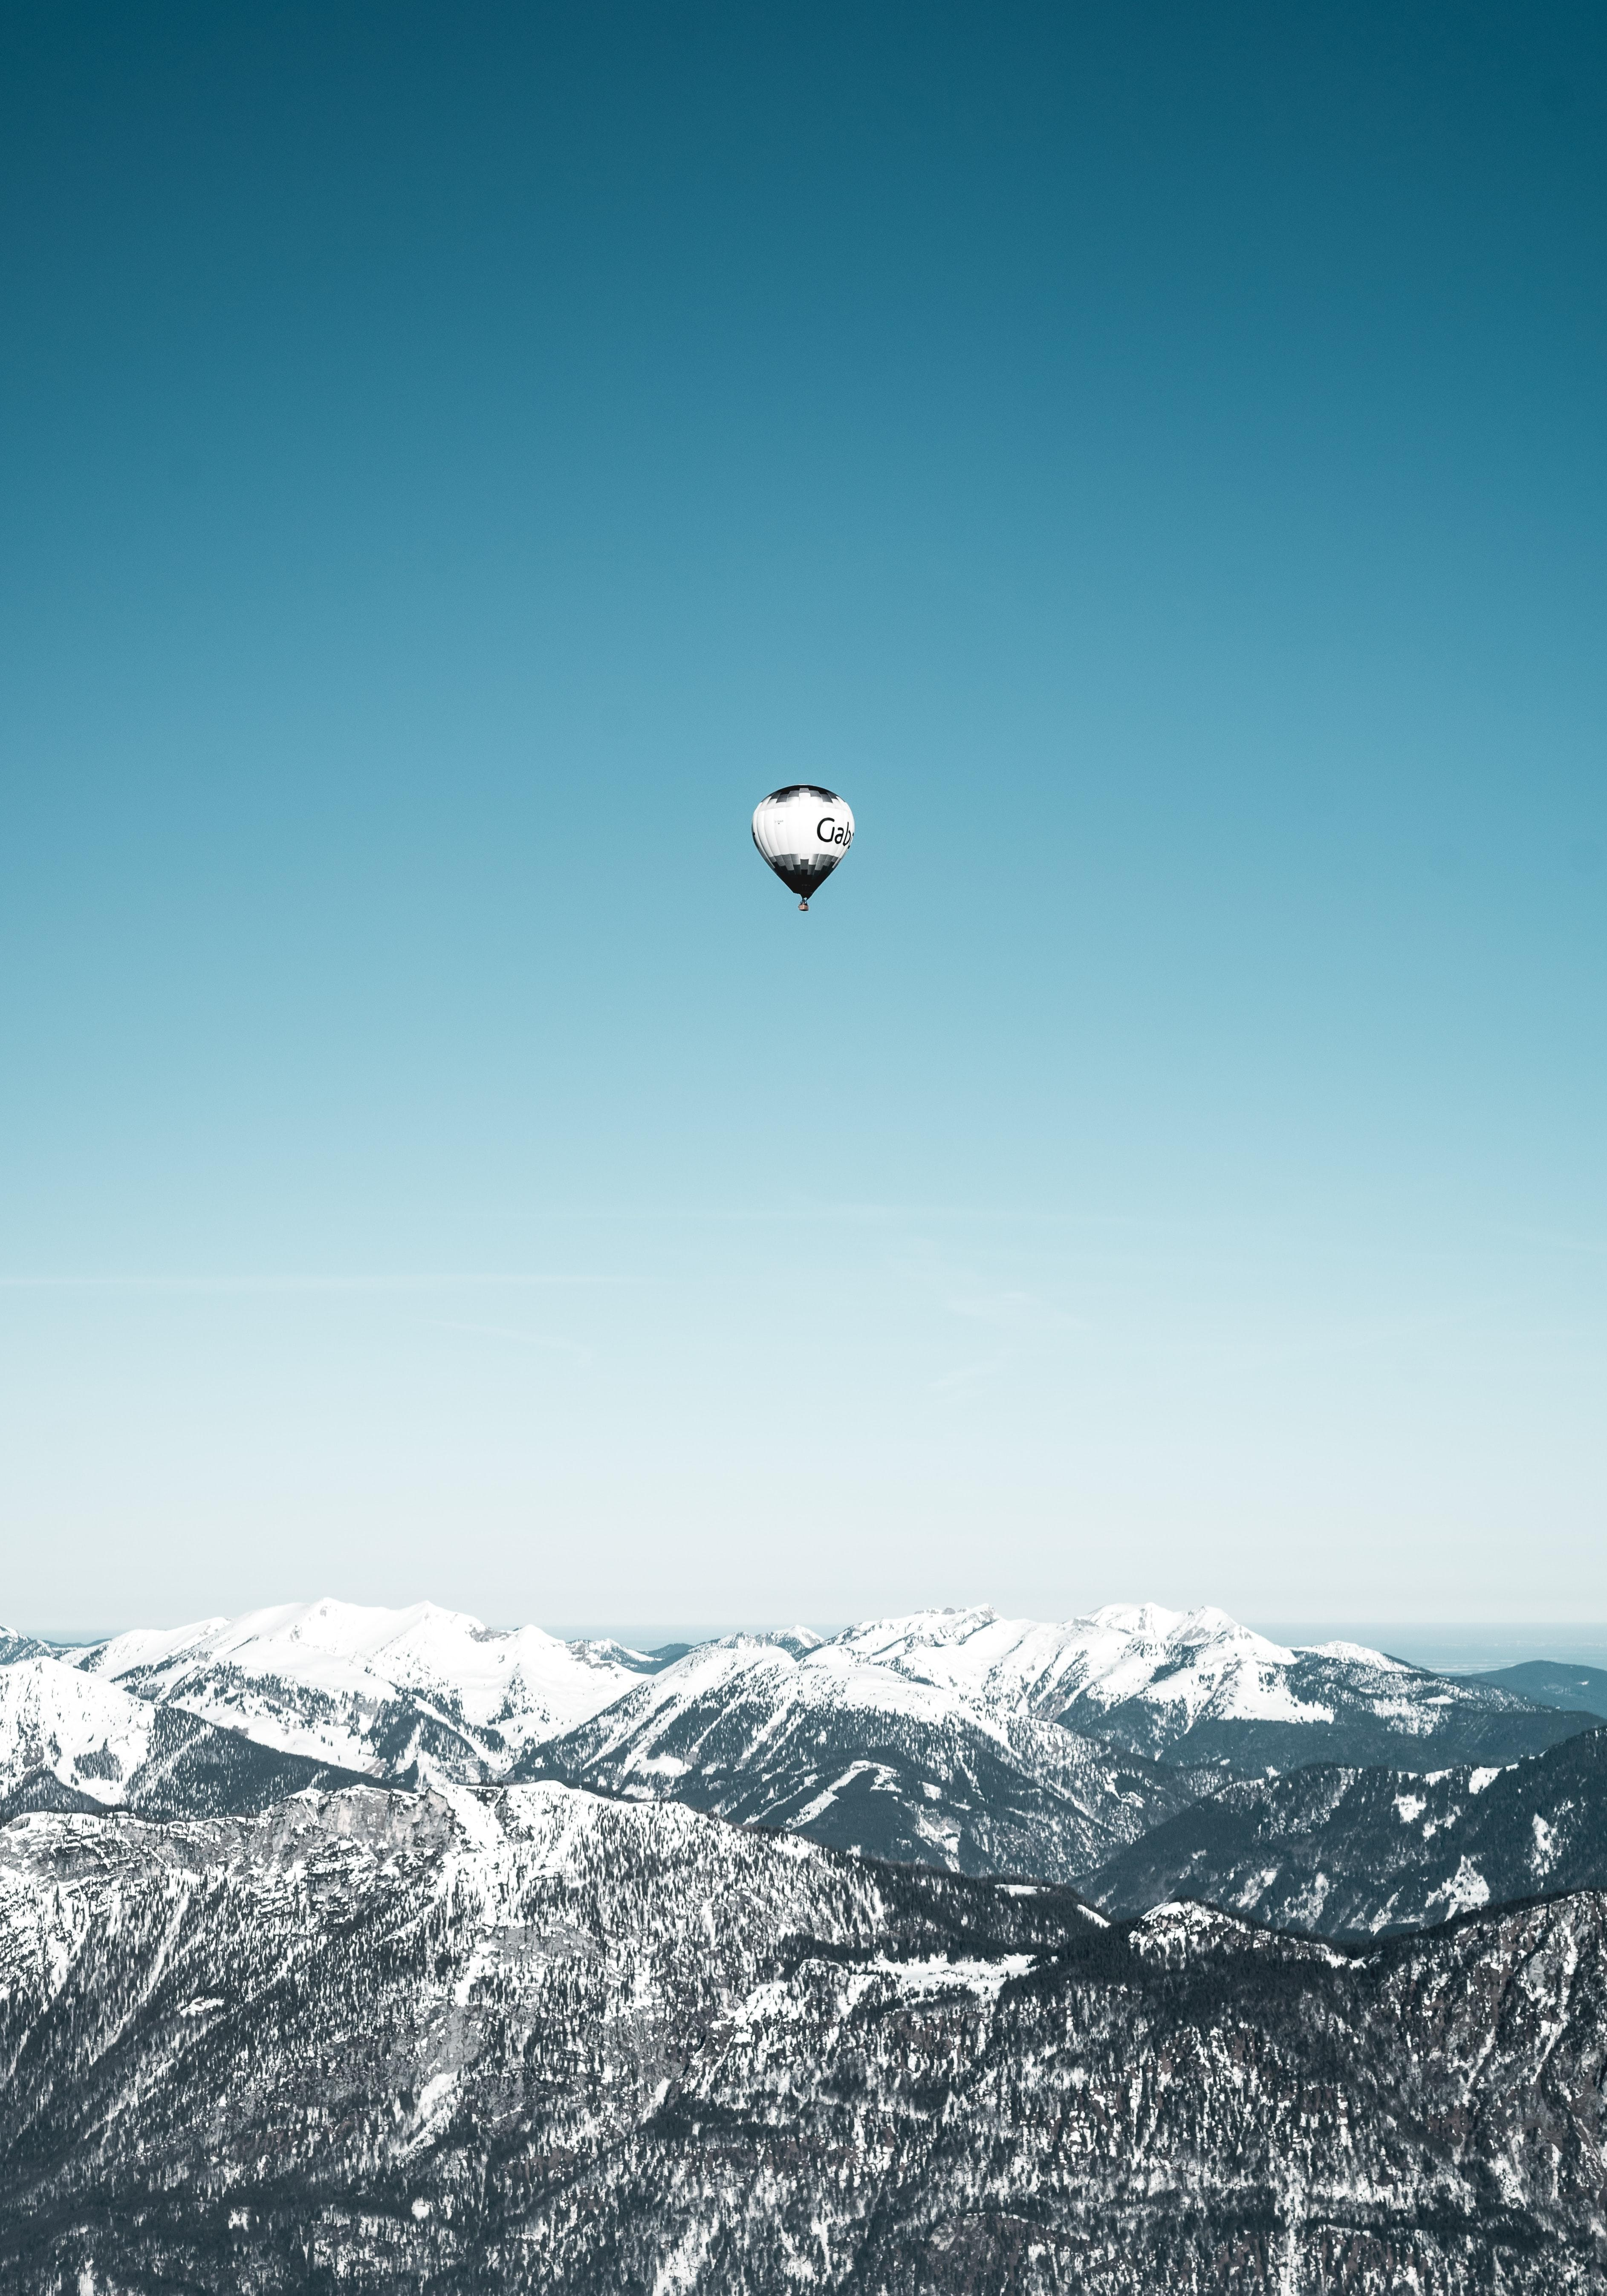hot air ballon: (750, 783, 857, 912)
